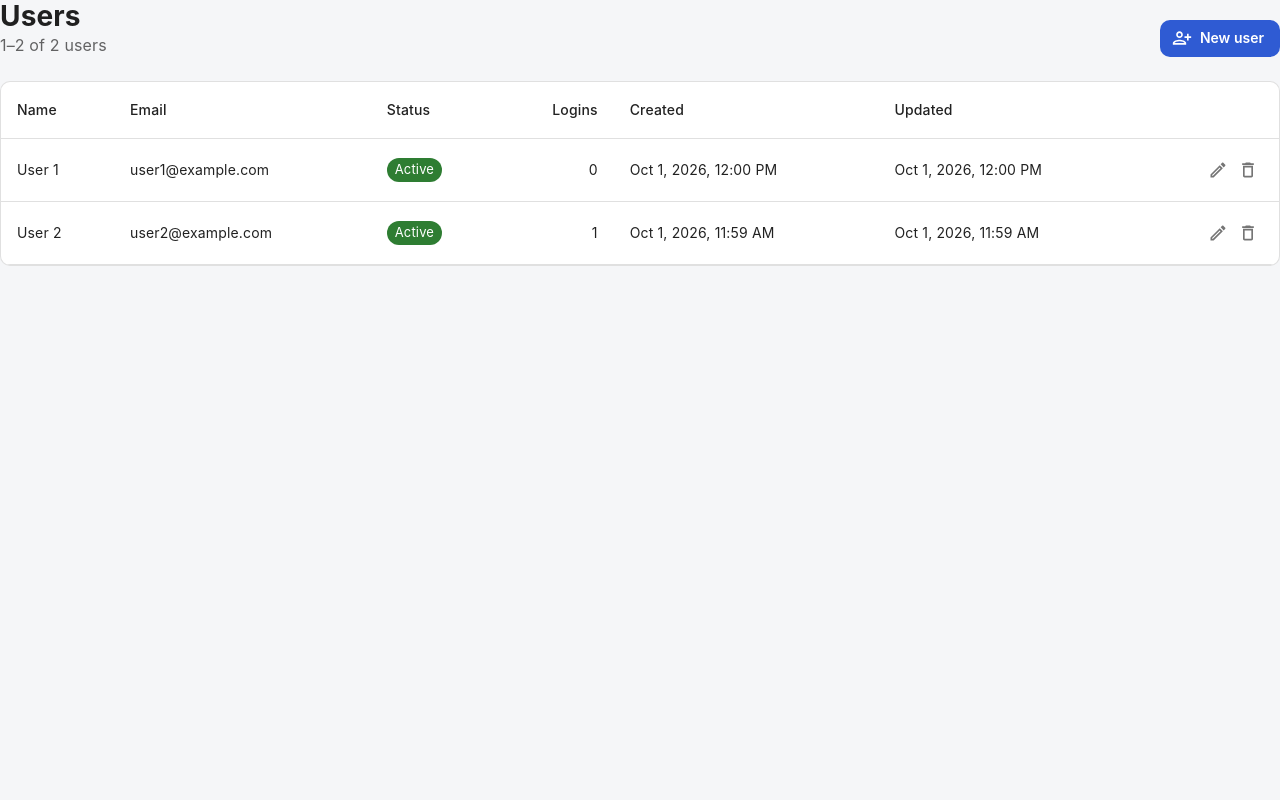
UsersDashboard: delete (T7.6, T7.7) › C6: requires confirmation; cancel sends nothing
Step 1. Click the button named "Delete User 1" → (1248, 170), box [1233,155,1263,185]
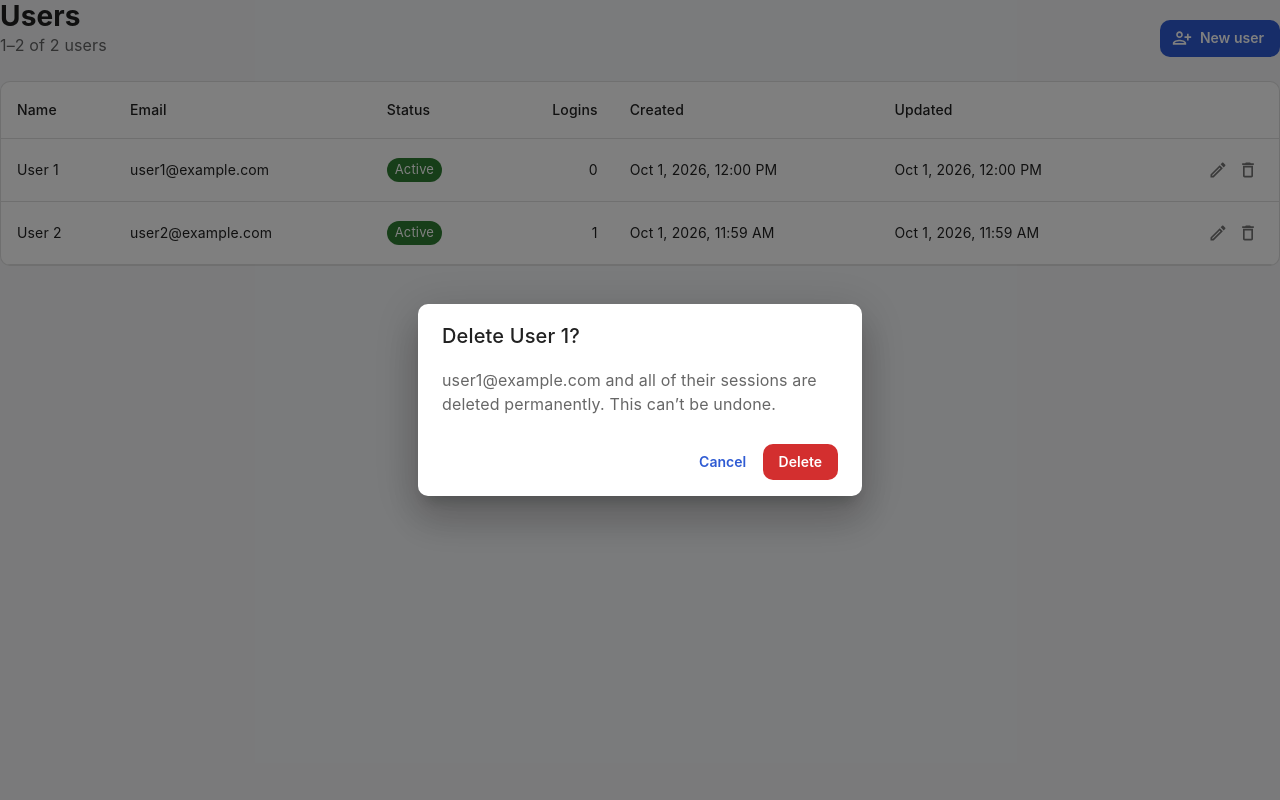
Result: the text "user1@example.com" is shown at [442,370,817,414]
Step 2. Click the button "Cancel" → (723, 462), box [691,444,755,480]
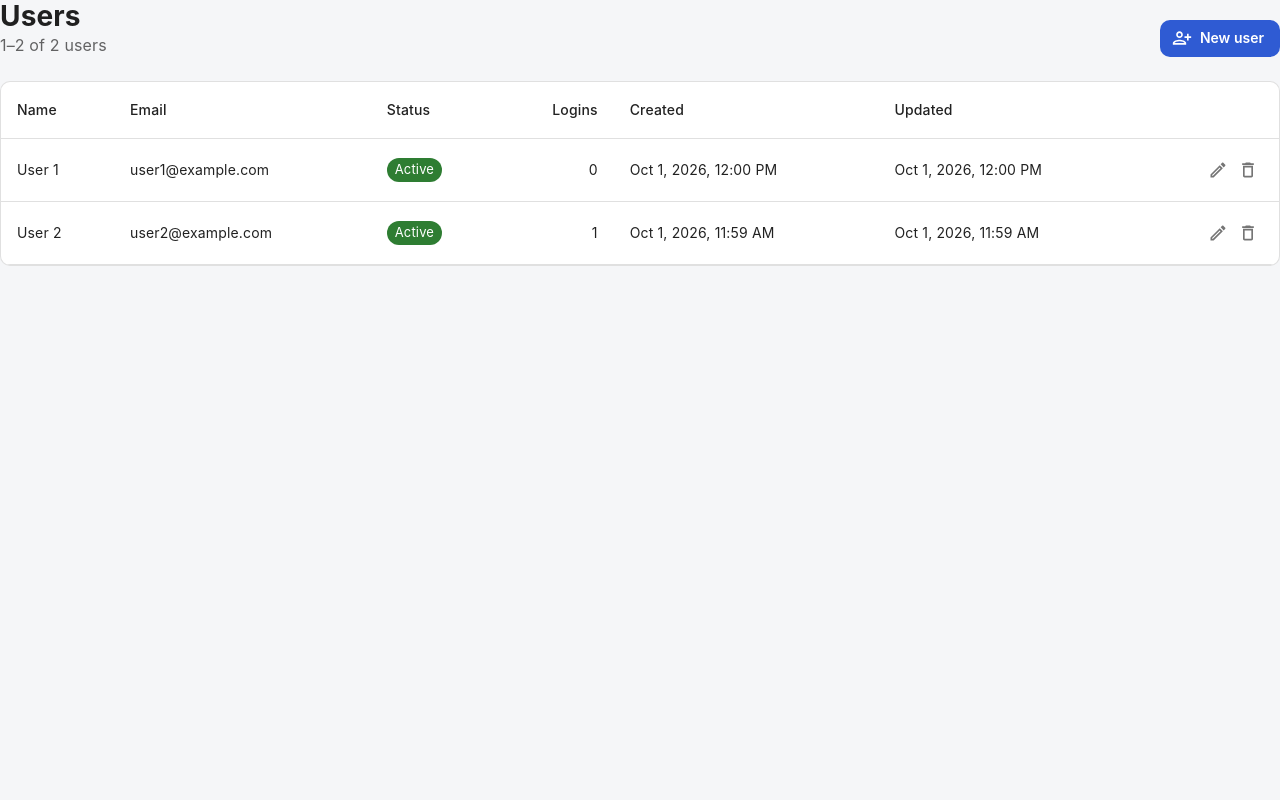
Result: the dialog is gone
Step 3. Click the button named "Delete User 1" → (1248, 170), box [1233,155,1263,185]
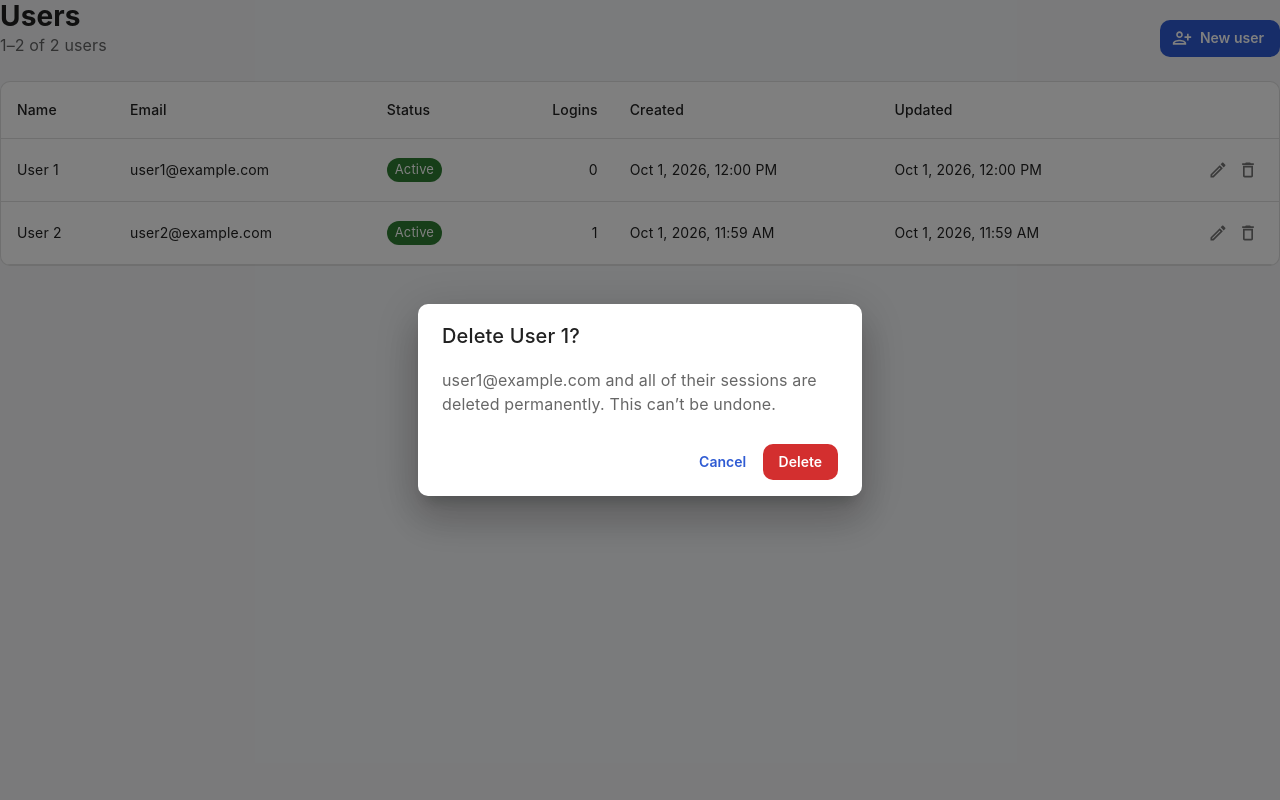
Step 4. Click the button "Delete" → (800, 462), box [763,444,838,480]
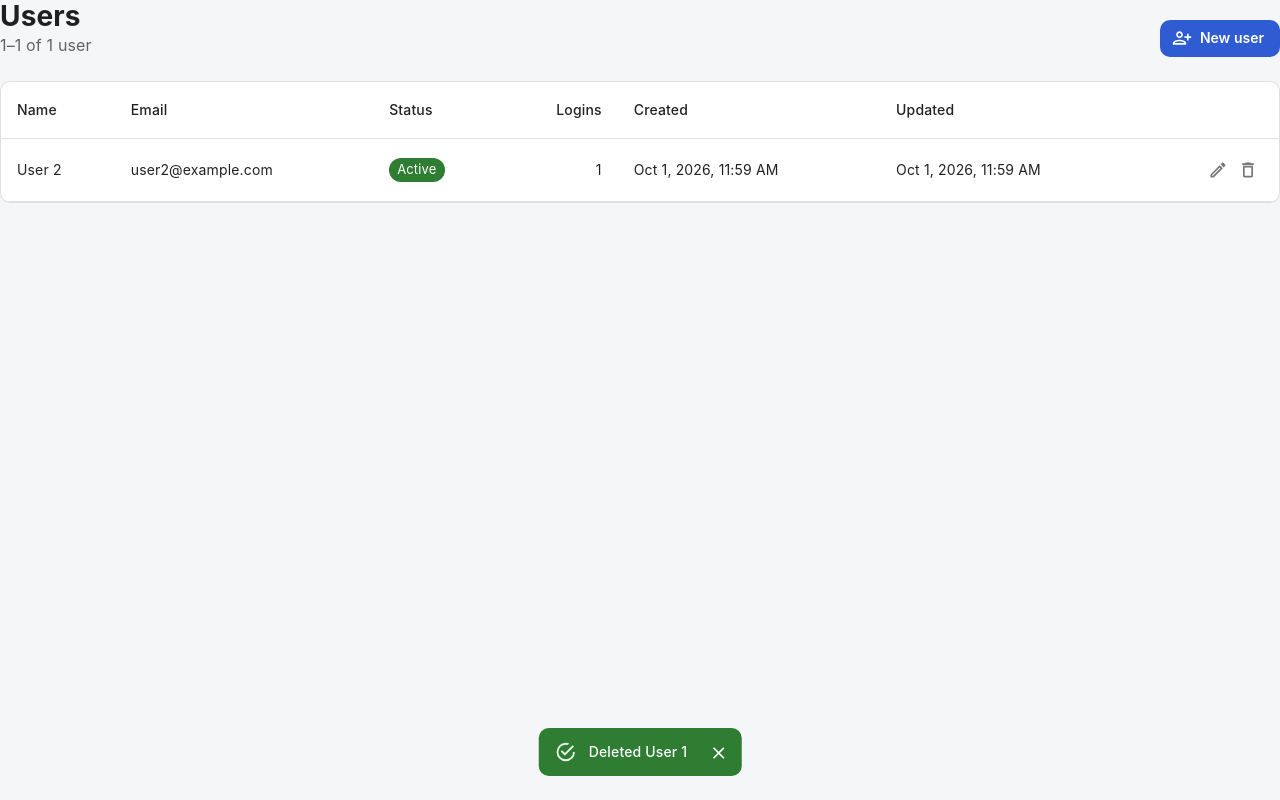
Result: the text "Deleted User 1" is shown at [589,743,687,760]
